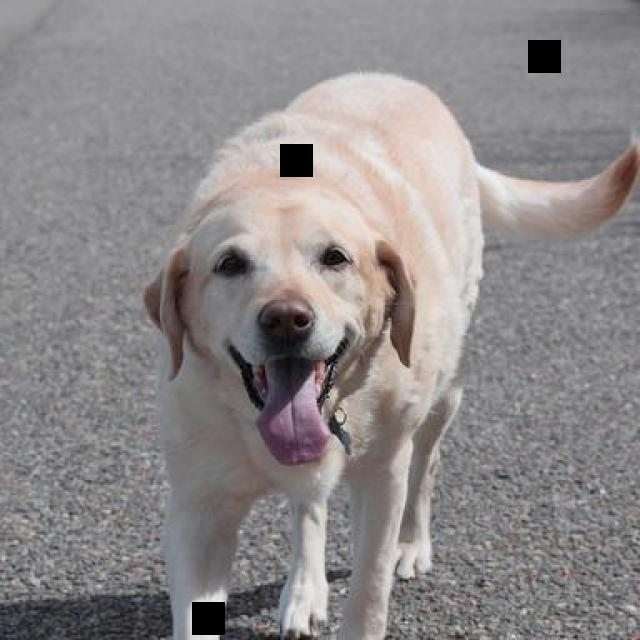adult_dog: (146, 67, 640, 640)
